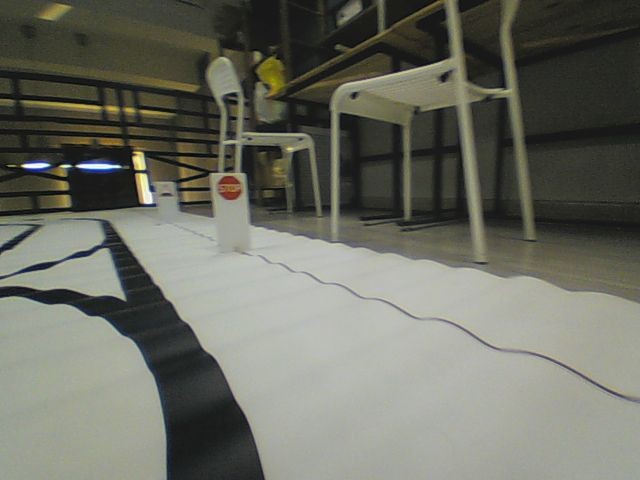Stop: (216, 174, 243, 201)
